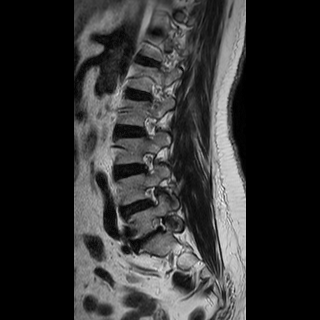LFS0: (133, 146, 162, 181), (135, 111, 163, 147), (136, 182, 164, 213)
LFS3: (147, 214, 175, 240)
